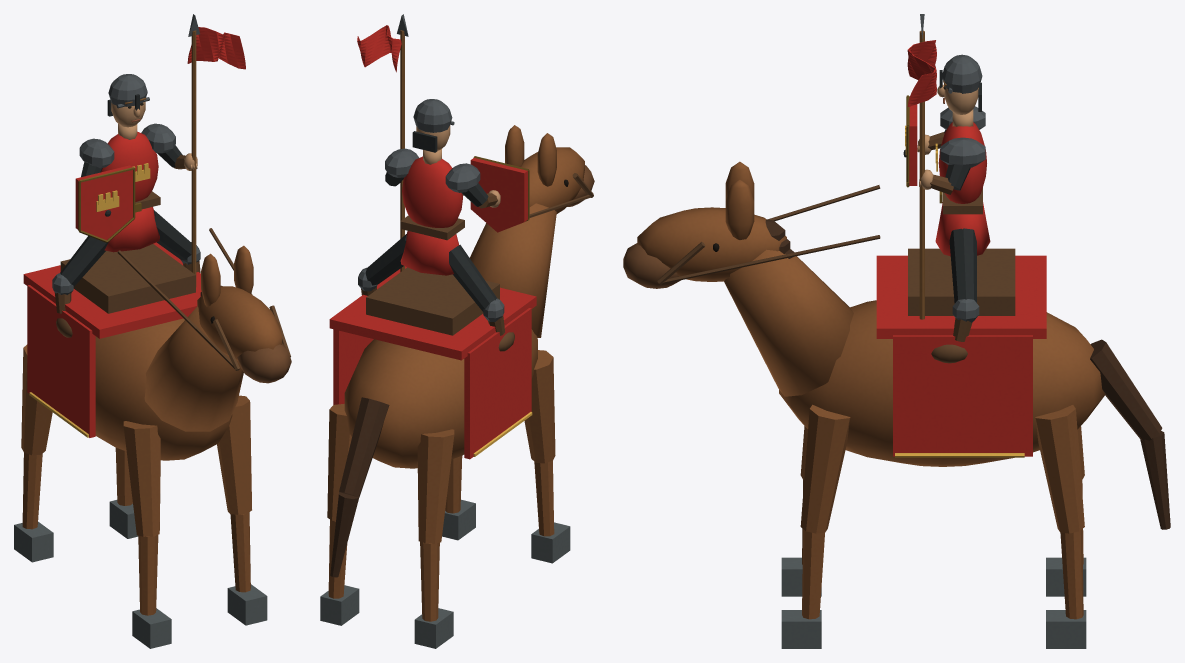
Rendered from SM_CaballeroMontado_A_LOD0.fbx.
3 views of the same model, side by side, from view 1: azimuth 30°, elevation 25°; view 2: azimuth 150°, elevation 25°; view 3: azimuth 270°, elevation 25° (orthographic). The views are drawn at different scales.
Visible parts, largest first — view 1: SM_CaballeroMontado_A_LOD0; view 2: SM_CaballeroMontado_A_LOD0; view 3: SM_CaballeroMontado_A_LOD0.
Part boxes in pixels (x1,y1,x2,y2): SM_CaballeroMontado_A_LOD0: (14, 14, 291, 648); SM_CaballeroMontado_A_LOD0: (320, 14, 594, 648); SM_CaballeroMontado_A_LOD0: (623, 14, 1170, 648).
Bounding box in the file's own units: 0.1717 × 0.5512 × 0.4346.
Materials: 1 (1 with a texture image).
